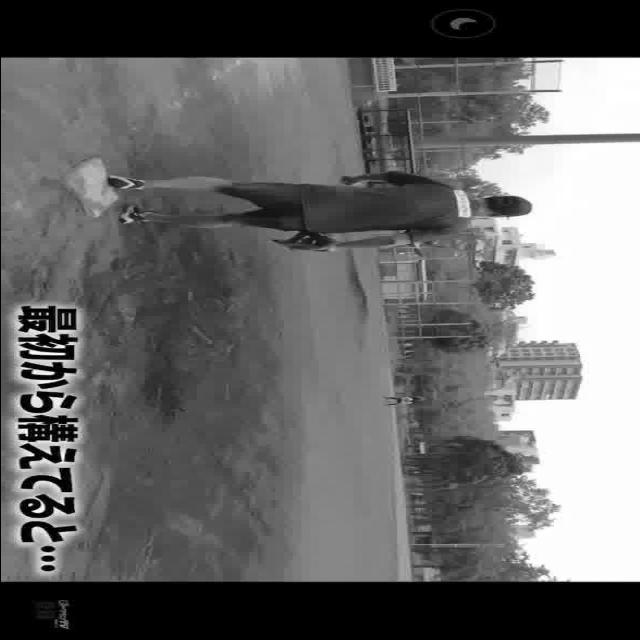base: (53, 154, 119, 216)
baseball_glove: (264, 232, 347, 252)
shoe: (117, 202, 155, 226), (102, 173, 150, 190)
